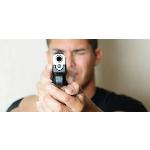Pistol: (53, 50, 68, 90)
